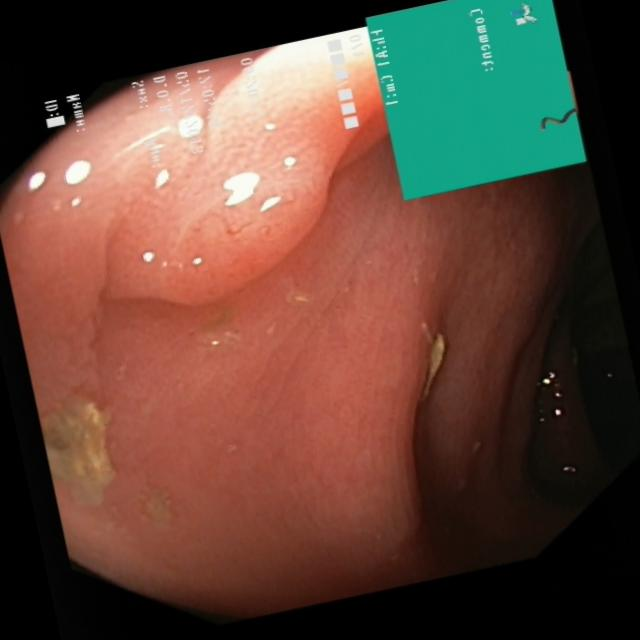Polyps: (93, 28, 384, 306)
